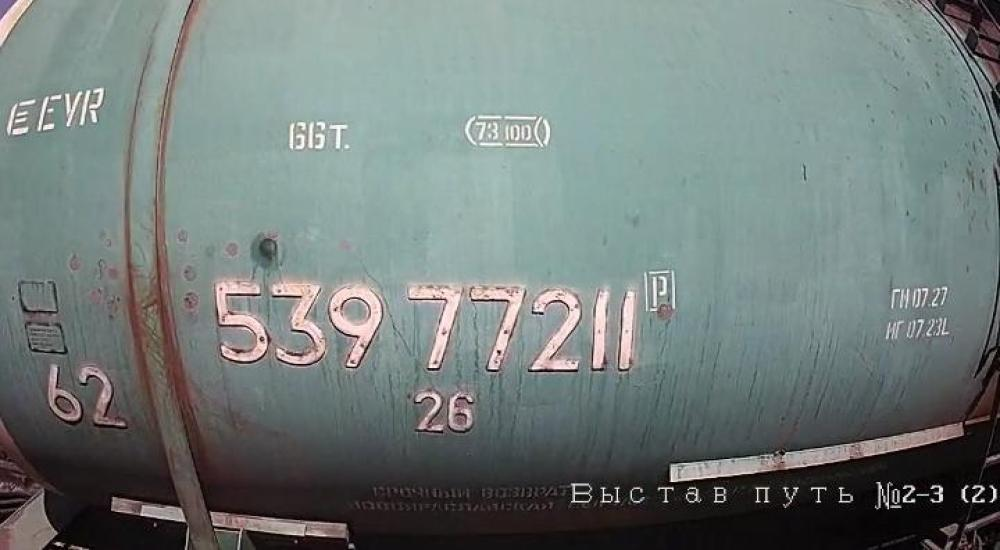Wagon-number: (210, 276, 644, 376)
